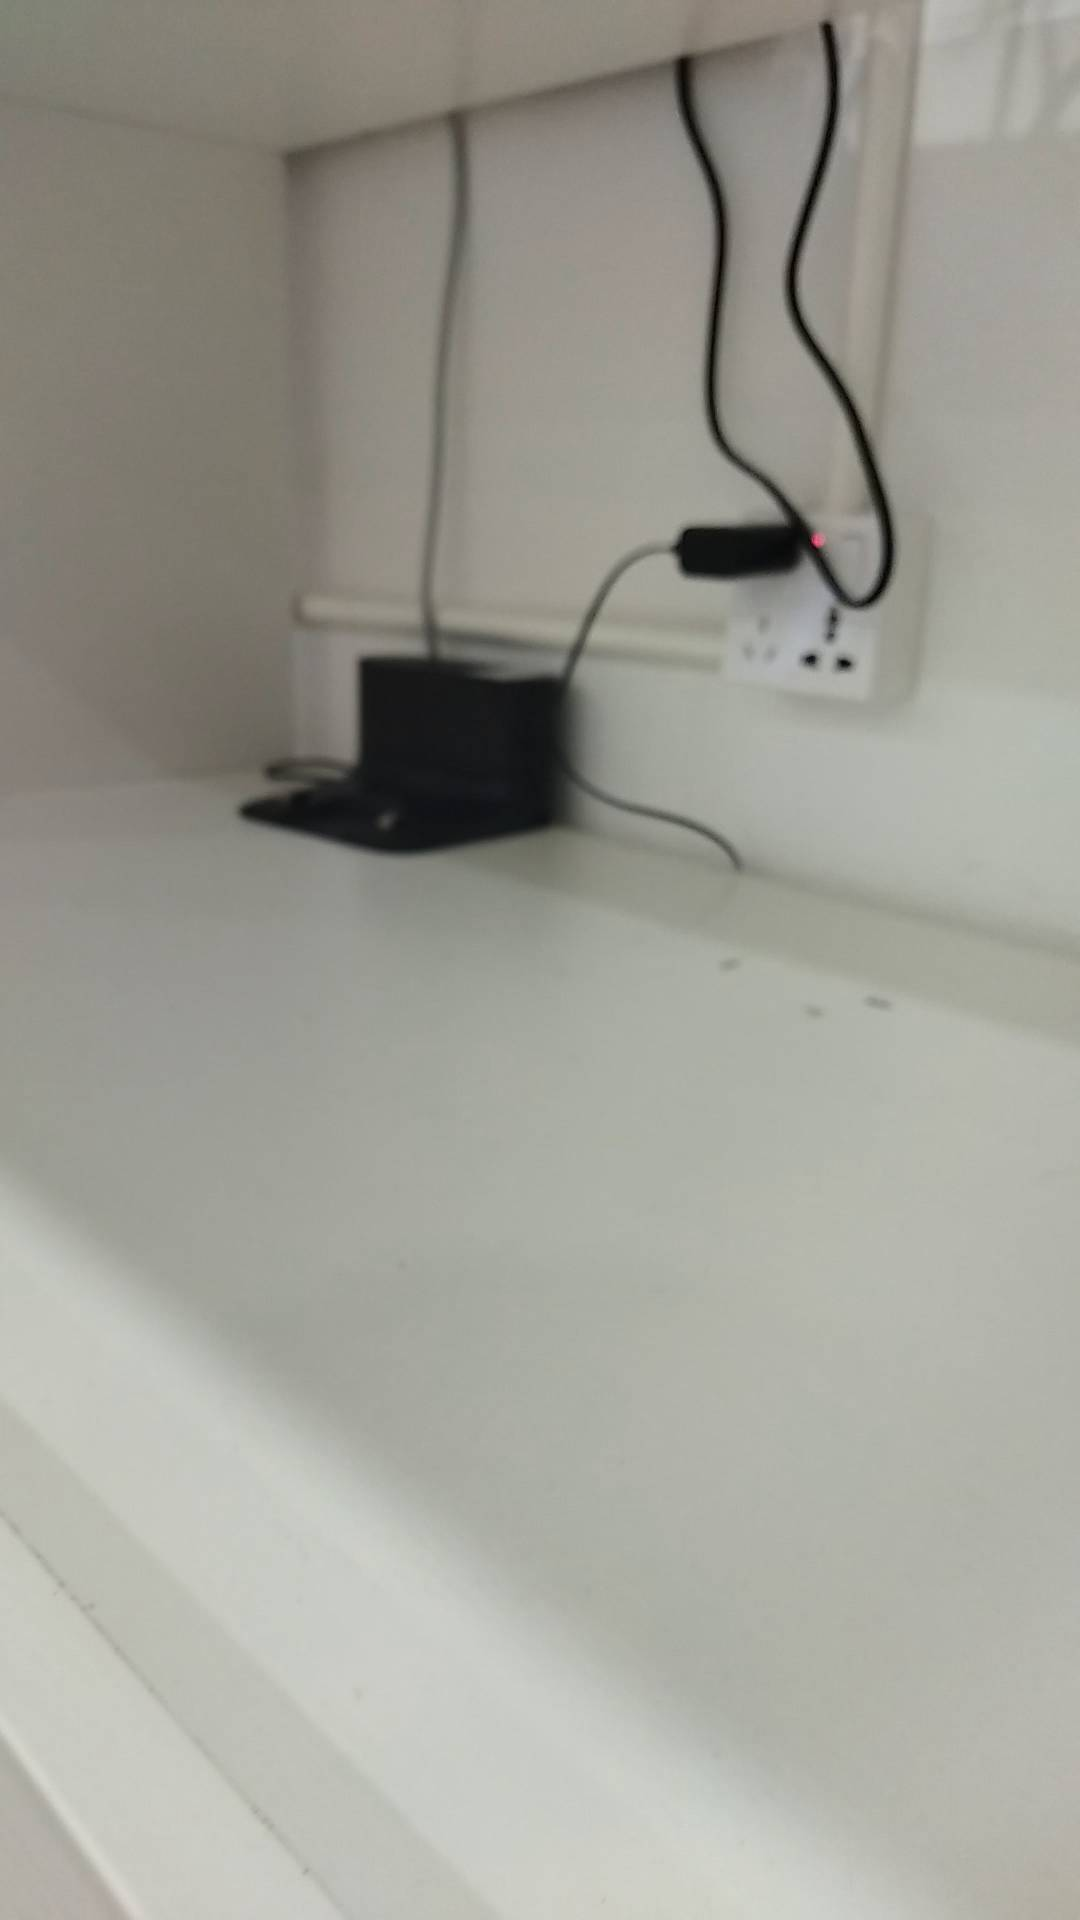recharge seat: (245, 655, 574, 858)
